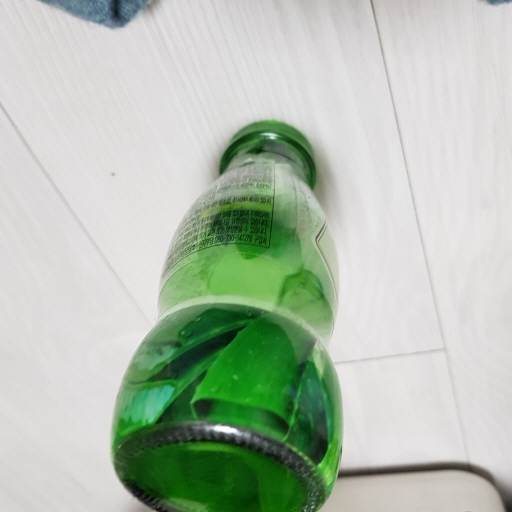Glass_4: (113, 120, 349, 512)
